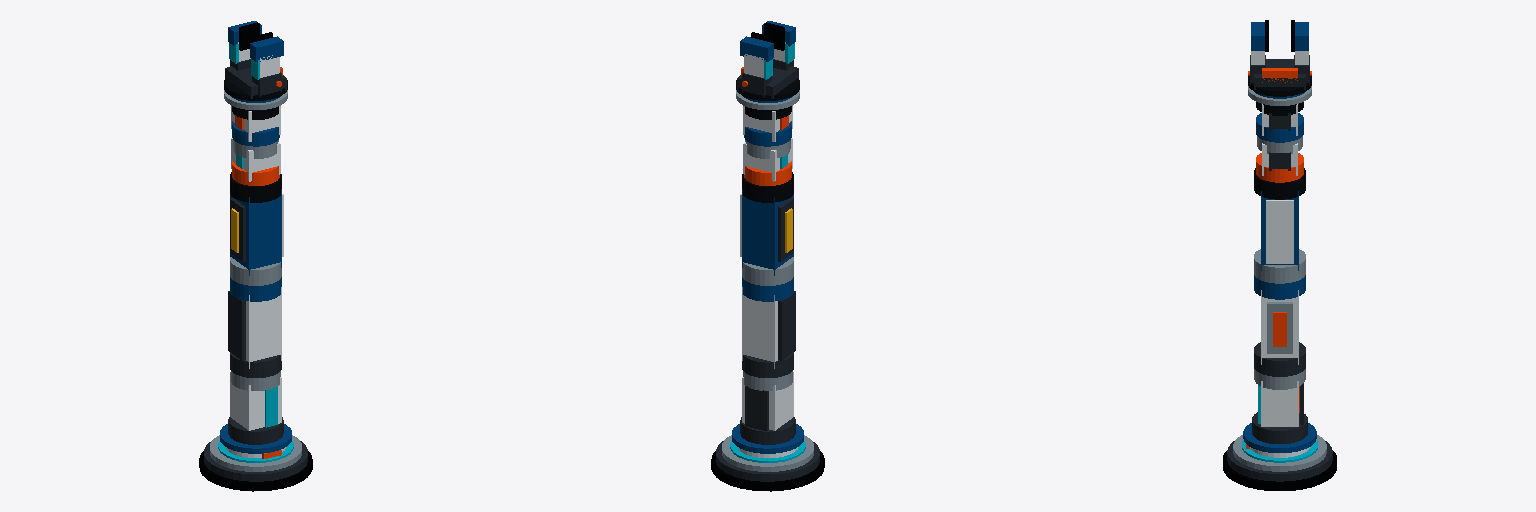
The robot description file, URDF, robot "marm":
<?xml version="1.0" ?>
<!-- =================================================================================== -->
<!-- |    This document was autogenerated by xacro from src/marm_description/urdf/marm_course_variant.xacro | -->
<!-- |    EDITING THIS FILE BY HAND IS NOT RECOMMENDED                                 | -->
<!-- =================================================================================== -->
<robot name="marm">
  <!-- Industrial palette inspired by UR, Franka, OpenMANIPULATOR and KUKA. -->
  <material name="Graphite">
    <color rgba="0.055 0.070 0.085 1"/>
  </material>
  <material name="Gunmetal">
    <color rgba="0.16 0.19 0.22 1"/>
  </material>
  <material name="PearlWhite">
    <color rgba="0.88 0.91 0.93 1"/>
  </material>
  <material name="Aluminium">
    <color rgba="0.52 0.58 0.62 1"/>
  </material>
  <material name="OceanBlue">
    <color rgba="0.02 0.30 0.52 1"/>
  </material>
  <material name="ElectricCyan">
    <color rgba="0.00 0.72 0.82 1"/>
  </material>
  <material name="SafetyOrange">
    <color rgba="1.00 0.30 0.035 1"/>
  </material>
  <material name="SignalYellow">
    <color rgba="1.00 0.73 0.06 1"/>
  </material>
  <material name="RubberBlack">
    <color rgba="0.018 0.022 0.026 1"/>
  </material>
  <!-- /////////////////////////////////////   ARM BASE    ////////////////////////////////////////////// -->
  <link name="base_link">
    <visual>
      <origin rpy="0 0 0" xyz="0 0 -0.006"/>
      <geometry>
        <cylinder length="0.012" radius="0.078"/>
      </geometry>
      <material name="RubberBlack"/>
    </visual>
    <visual>
      <origin rpy="0 0 0" xyz="0 0 0.004"/>
      <geometry>
        <cylinder length="0.014" radius="0.072"/>
      </geometry>
      <material name="Gunmetal"/>
    </visual>
    <visual>
      <origin rpy="0 0 0" xyz="0 0 0.014"/>
      <geometry>
        <cylinder length="0.01" radius="0.064"/>
      </geometry>
      <material name="Aluminium"/>
    </visual>
    <visual>
      <origin rpy="0 0 0" xyz="0 0 0.020"/>
      <geometry>
        <cylinder length="0.004" radius="0.052"/>
      </geometry>
      <material name="ElectricCyan"/>
    </visual>
  </link>
  <joint name="base_joint" type="fixed">
    <origin rpy="0 0 0" xyz="0 0 0.02"/>
    <parent link="base_link"/>
    <child link="link0"/>
  </joint>
  <!-- /////////////////////////////////////    LINK0    ////////////////////////////////////////////// -->
  <link name="link0">
    <visual>
      <origin rpy="0 0 0" xyz="0 0 0"/>
      <geometry>
        <cylinder length="0.032" radius="0.043"/>
      </geometry>
      <material name="PearlWhite"/>
    </visual>
    <visual>
      <origin rpy="0 0 0" xyz="0 0 -0.016"/>
      <geometry>
        <cylinder length="0.008" radius="0.05"/>
      </geometry>
      <material name="Graphite"/>
    </visual>
    <visual>
      <origin rpy="0 0 0" xyz="0 0 0.016"/>
      <geometry>
        <cylinder length="0.008" radius="0.05"/>
      </geometry>
      <material name="OceanBlue"/>
    </visual>
    <visual>
      <origin rpy="0 0 0" xyz="0 -0.043 0"/>
      <geometry>
        <box size="0.028 0.006 0.020"/>
      </geometry>
      <material name="SafetyOrange"/>
    </visual>
    <collision>
      <origin rpy="0 0 0" xyz="0 0 0"/>
      <geometry>
        <cylinder length="0.04" radius="0.05"/>
      </geometry>
    </collision>
    <cylinder_inertial_matrix h="0.04" m="1" r="0.05"/>
  </link>
  <joint name="joint1" type="revolute">
    <parent link="link0"/>
    <child link="link1"/>
    <origin rpy="0 1.570795 0" xyz="0 0 0.02"/>
    <axis xyz="-1 0 0"/>
    <limit effort="300" lower="-3.14159" upper="3.14159" velocity="1"/>
  </joint>
  <!-- /////////////////////////////////////   LINK1  ////////////////////////////////////////////// -->
  <link name="link1">
    <visual>
      <origin rpy="0 0 0" xyz="-0.05 0 0"/>
      <geometry>
        <box size="0.078 0.052 0.052"/>
      </geometry>
      <material name="PearlWhite"/>
    </visual>
    <visual>
      <origin rpy="0 1.570795 0" xyz="-0.010 0 0"/>
      <geometry>
        <cylinder length="0.02" radius="0.038"/>
      </geometry>
      <material name="Gunmetal"/>
    </visual>
    <visual>
      <origin rpy="0 1.570795 0" xyz="-0.090 0 0"/>
      <geometry>
        <cylinder length="0.02" radius="0.035"/>
      </geometry>
      <material name="Aluminium"/>
    </visual>
    <visual>
      <origin rpy="0 0 0" xyz="-0.05 -0.026 0.008"/>
      <geometry>
        <box size="0.058 0.008 0.018"/>
      </geometry>
      <material name="ElectricCyan"/>
    </visual>
    <visual>
      <origin rpy="0 0 0" xyz="-0.05 0.026 -0.008"/>
      <geometry>
        <box size="0.042 0.006 0.012"/>
      </geometry>
      <material name="SafetyOrange"/>
    </visual>
    <visual>
      <origin rpy="0 0 0" xyz="-0.05 0.030 0"/>
      <geometry>
        <box size="0.062 0.006 0.034"/>
      </geometry>
      <material name="Gunmetal"/>
    </visual>
    <collision>
      <origin rpy="0 1.570795 0" xyz="-0.05 0 0"/>
      <geometry>
        <cylinder length="0.1" radius="0.03"/>
      </geometry>
    </collision>
    <cylinder_inertial_matrix h="0.1" m="1" r="0.03"/>
  </link>
  <joint name="joint2" type="revolute">
    <parent link="link1"/>
    <child link="link2"/>
    <origin rpy="-1.570795 0 1.570795" xyz="-0.1 0 0.0"/>
    <axis xyz="1 0 0"/>
    <limit effort="300" lower="-3.14159" upper="3.14159" velocity="1"/>
  </joint>
  <!-- ///////////////////////////////////////   LINK2  ////////////////////////////////////////////// -->
  <link name="link2">
    <visual>
      <origin rpy="0 0 0" xyz="0 0 0.07"/>
      <geometry>
        <box size="0.052 0.052 0.112"/>
      </geometry>
      <material name="PearlWhite"/>
    </visual>
    <visual>
      <origin rpy="0 0 0" xyz="0 0 0.012"/>
      <geometry>
        <cylinder length="0.024" radius="0.036"/>
      </geometry>
      <material name="Gunmetal"/>
    </visual>
    <visual>
      <origin rpy="0 0 0" xyz="0 0 0.128"/>
      <geometry>
        <cylinder length="0.024" radius="0.036"/>
      </geometry>
      <material name="OceanBlue"/>
    </visual>
    <visual>
      <origin rpy="0 0 0" xyz="0 -0.027 0.07"/>
      <geometry>
        <box size="0.036 0.009 0.076"/>
      </geometry>
      <material name="Aluminium"/>
    </visual>
    <visual>
      <origin rpy="0 0 0" xyz="0 -0.033 0.07"/>
      <geometry>
        <box size="0.020 0.004 0.052"/>
      </geometry>
      <material name="SafetyOrange"/>
    </visual>
    <visual>
      <origin rpy="0 0 0" xyz="0 0.030 0.07"/>
      <geometry>
        <box size="0.038 0.006 0.090"/>
      </geometry>
      <material name="Gunmetal"/>
    </visual>
    <collision>
      <origin rpy="0 0 0" xyz="0 0 0.07"/>
      <geometry>
        <cylinder length="0.14" radius="0.03"/>
      </geometry>
    </collision>
    <cylinder_inertial_matrix h="0.14" m="0.8" r="0.03"/>
  </link>
  <joint name="joint3" type="revolute">
    <parent link="link2"/>
    <child link="link3"/>
    <origin rpy="0 3.14159 0" xyz="0 0 0.14"/>
    <axis xyz="-1 0 0"/>
    <limit effort="300" lower="-3.14159" upper="3.14159" velocity="1"/>
  </joint>
  <!-- /////////////////////////////////   LINK3  ///////////////////////////////////////////////////// -->
  <link name="link3">
    <visual>
      <origin rpy="0 0 0" xyz="0 0 -0.075"/>
      <geometry>
        <box size="0.052 0.052 0.120"/>
      </geometry>
      <material name="OceanBlue"/>
    </visual>
    <visual>
      <origin rpy="0 0 0" xyz="0 0 -0.012"/>
      <geometry>
        <cylinder length="0.024" radius="0.036"/>
      </geometry>
      <material name="Aluminium"/>
    </visual>
    <visual>
      <origin rpy="0 0 0" xyz="0 0 -0.138"/>
      <geometry>
        <cylinder length="0.024" radius="0.036"/>
      </geometry>
      <material name="Graphite"/>
    </visual>
    <visual>
      <origin rpy="0 0 0" xyz="0 0.027 -0.075"/>
      <geometry>
        <box size="0.036 0.009 0.082"/>
      </geometry>
      <material name="Gunmetal"/>
    </visual>
    <visual>
      <origin rpy="0 0 0" xyz="0 0.033 -0.075"/>
      <geometry>
        <box size="0.018 0.004 0.060"/>
      </geometry>
      <material name="SignalYellow"/>
    </visual>
    <visual>
      <origin rpy="0 0 0" xyz="0 -0.030 -0.075"/>
      <geometry>
        <box size="0.038 0.006 0.094"/>
      </geometry>
      <material name="PearlWhite"/>
    </visual>
    <collision>
      <origin rpy="0 0 0" xyz="0 0 -0.075"/>
      <geometry>
        <cylinder length="0.15" radius="0.03"/>
      </geometry>
    </collision>
    <cylinder_inertial_matrix h="0.15" m="0.8" r="0.03"/>
  </link>
  <joint name="joint4" type="revolute">
    <parent link="link3"/>
    <child link="link4"/>
    <origin rpy="0 1.570795 3.14159" xyz="0.0 0.0 -0.15"/>
    <axis xyz="-1 0 0"/>
    <limit effort="300" lower="-3.14159" upper="3.14159" velocity="1"/>
  </joint>
  <!-- ///////////////////////////////////   LINK4  //////////////////////////////////////////////// -->
  <link name="link4">
    <visual>
      <origin rpy="0 0 0" xyz="0.03 0 0"/>
      <geometry>
        <box size="0.046 0.050 0.050"/>
      </geometry>
      <material name="PearlWhite"/>
    </visual>
    <visual>
      <origin rpy="0 1.570795 0" xyz="0.010 0 0"/>
      <geometry>
        <cylinder length="0.02" radius="0.033"/>
      </geometry>
      <material name="SafetyOrange"/>
    </visual>
    <visual>
      <origin rpy="0 1.570795 0" xyz="0.050 0 0"/>
      <geometry>
        <cylinder length="0.02" radius="0.031"/>
      </geometry>
      <material name="Aluminium"/>
    </visual>
    <visual>
      <origin rpy="0 0 0" xyz="0.03 -0.024 0"/>
      <geometry>
        <box size="0.026 0.006 0.018"/>
      </geometry>
      <material name="ElectricCyan"/>
    </visual>
    <visual>
      <origin rpy="0 0 0" xyz="0.03 0.028 0"/>
      <geometry>
        <box size="0.026 0.006 0.030"/>
      </geometry>
      <material name="Gunmetal"/>
    </visual>
    <collision>
      <origin rpy="0 1.570795 0" xyz="0.03 0 0"/>
      <geometry>
        <cylinder length="0.06" radius="0.025"/>
      </geometry>
    </collision>
    <cylinder_inertial_matrix h="0.06" m="0.7" r="0.025"/>
  </link>
  <joint name="joint5" type="revolute">
    <parent link="link4"/>
    <child link="link5"/>
    <origin rpy="0 1.570795 0" xyz="0.06 0.0 0.0"/>
    <axis xyz="1 0 0"/>
    <limit effort="300" lower="-3.14159" upper="3.14159" velocity="1"/>
  </joint>
  <!-- //////////////////////////////////   LINK5  ///////////////////////////////////////////////// -->
  <link name="link5">
    <visual>
      <origin rpy="0 0 0" xyz="0 0 0.03"/>
      <geometry>
        <box size="0.050 0.050 0.046"/>
      </geometry>
      <material name="PearlWhite"/>
    </visual>
    <visual>
      <origin rpy="0 0 0" xyz="0 0 0.010"/>
      <geometry>
        <cylinder length="0.02" radius="0.033"/>
      </geometry>
      <material name="OceanBlue"/>
    </visual>
    <visual>
      <origin rpy="0 0 0" xyz="0 0 0.050"/>
      <geometry>
        <cylinder length="0.02" radius="0.033"/>
      </geometry>
      <material name="Graphite"/>
    </visual>
    <visual>
      <origin rpy="0 0 0" xyz="0 -0.025 0.03"/>
      <geometry>
        <box size="0.018 0.006 0.026"/>
      </geometry>
      <material name="SafetyOrange"/>
    </visual>
    <visual>
      <origin rpy="0 0 0" xyz="0 0.028 0.03"/>
      <geometry>
        <box size="0.030 0.006 0.026"/>
      </geometry>
      <material name="Gunmetal"/>
    </visual>
    <collision>
      <origin rpy="0 0 0" xyz="0 0 0.03 "/>
      <geometry>
        <cylinder length="0.06" radius="0.03"/>
      </geometry>
    </collision>
    <cylinder_inertial_matrix h="0.06" m="0.7" r="0.03"/>
  </link>
  <joint name="joint6" type="revolute">
    <parent link="link5"/>
    <child link="link6"/>
    <origin rpy="4.712384999999999 -1.570795 0" xyz="0 0 0.06"/>
    <axis xyz="1 0 0"/>
    <limit effort="300" lower="-6.28318" upper="6.28318" velocity="1"/>
  </joint>
  <!-- ////////////////////////////////   LINK6  ///////////////////////////////////////////////// -->
  <link name="link6">
    <visual>
      <origin rpy="0 1.570795 0" xyz="0.01 0 0"/>
      <geometry>
        <cylinder length="0.02" radius="0.038"/>
      </geometry>
      <material name="OceanBlue"/>
    </visual>
    <visual>
      <origin rpy="0 1.570795 0" xyz="0.004 0 0"/>
      <geometry>
        <cylinder length="0.008" radius="0.044"/>
      </geometry>
      <material name="Aluminium"/>
    </visual>
    <visual>
      <origin rpy="0 1.570795 0" xyz="0.018 0 0"/>
      <geometry>
        <cylinder length="0.008" radius="0.044"/>
      </geometry>
      <material name="Graphite"/>
    </visual>
    <visual>
      <origin rpy="0 0 0" xyz="0.027 0 0"/>
      <geometry>
        <box size="0.018 0.072 0.058"/>
      </geometry>
      <material name="Gunmetal"/>
    </visual>
    <visual>
      <origin rpy="0 0 0" xyz="0.037 0 0.025"/>
      <geometry>
        <box size="0.018 0.050 0.008"/>
      </geometry>
      <material name="SafetyOrange"/>
    </visual>
    <collision>
      <origin rpy="0 1.570795 0" xyz="0.01 0 0"/>
      <geometry>
        <cylinder length="0.02" radius="0.04"/>
      </geometry>
    </collision>
    <cylinder_inertial_matrix h="0.02" m="0.6" r="0.04"/>
  </link>
  <joint name="finger_joint1" type="prismatic">
    <parent link="link6"/>
    <child link="gripper_finger_link1"/>
    <origin rpy="0 0 0" xyz="0.02 -0.03 0"/>
    <axis xyz="0 1 0"/>
    <limit effort="100" lower="0" upper="0.06" velocity="0.02"/>
  </joint>
  <!-- //////////////////////////////////////   gripper   ////////////////////////////////////////////// -->
  <!-- LEFT GRIPPER AFT LINK -->
  <link name="gripper_finger_link1">
    <visual>
      <origin rpy="0 0 0" xyz="0.014 0 0"/>
      <geometry>
        <box size="0.028 0.022 0.036"/>
      </geometry>
      <material name="Gunmetal"/>
    </visual>
    <visual>
      <origin rpy="0 0 0" xyz="0.041 0 0"/>
      <geometry>
        <box size="0.034 0.018 0.032"/>
      </geometry>
      <material name="PearlWhite"/>
    </visual>
    <visual>
      <origin rpy="0 0 0" xyz="0.064 0 0"/>
      <geometry>
        <box size="0.022 0.018 0.044"/>
      </geometry>
      <material name="OceanBlue"/>
    </visual>
    <visual>
      <origin rpy="0 0 0" xyz="0.064 0.012 0"/>
      <geometry>
        <box size="0.034 0.006 0.030"/>
      </geometry>
      <material name="RubberBlack"/>
    </visual>
    <visual>
      <origin rpy="0 0 0" xyz="0.041 0 -0.018"/>
      <geometry>
        <box size="0.030 0.020 0.004"/>
      </geometry>
      <material name="ElectricCyan"/>
    </visual>
    <visual>
      <origin rpy="1.570795 0 0" xyz="0.014 -0.012 0.012"/>
      <geometry>
        <cylinder length="0.004" radius="0.004"/>
      </geometry>
      <material name="SafetyOrange"/>
    </visual>
    <collision>
      <origin rpy="0 1.570795 0" xyz="0.03 0 0"/>
      <geometry>
        <box size="0.03 0.01 0.06"/>
      </geometry>
    </collision>
    <box_inertial_matrix d="0.03" h="0.06" m="0.5" w="0.01"/>
  </link>
  <joint name="finger_joint2" type="fixed">
    <parent link="link6"/>
    <child link="gripper_finger_link2"/>
    <origin rpy="0 0 0" xyz="0.02 0.03 0"/>
  </joint>
  <!-- RIGHT GRIPPER AFT LINK -->
  <link name="gripper_finger_link2">
    <visual>
      <origin rpy="0 0 0" xyz="0.014 0 0"/>
      <geometry>
        <box size="0.028 0.022 0.036"/>
      </geometry>
      <material name="Gunmetal"/>
    </visual>
    <visual>
      <origin rpy="0 0 0" xyz="0.041 0 0"/>
      <geometry>
        <box size="0.034 0.018 0.032"/>
      </geometry>
      <material name="PearlWhite"/>
    </visual>
    <visual>
      <origin rpy="0 0 0" xyz="0.064 0 0"/>
      <geometry>
        <box size="0.022 0.018 0.044"/>
      </geometry>
      <material name="OceanBlue"/>
    </visual>
    <visual>
      <origin rpy="0 0 0" xyz="0.064 -0.012 0"/>
      <geometry>
        <box size="0.034 0.006 0.030"/>
      </geometry>
      <material name="RubberBlack"/>
    </visual>
    <visual>
      <origin rpy="0 0 0" xyz="0.041 0 -0.018"/>
      <geometry>
        <box size="0.030 0.020 0.004"/>
      </geometry>
      <material name="ElectricCyan"/>
    </visual>
    <visual>
      <origin rpy="1.570795 0 0" xyz="0.014 0.012 0.012"/>
      <geometry>
        <cylinder length="0.004" radius="0.004"/>
      </geometry>
      <material name="SafetyOrange"/>
    </visual>
    <collision>
      <origin rpy="0 1.570795 0" xyz="0.03 0 0"/>
      <geometry>
        <box size="0.03 0.01 0.06"/>
      </geometry>
    </collision>
    <box_inertial_matrix d="0.03" h="0.06" m="0.5" w="0.01"/>
  </link>
  <!-- Grasping frame -->
  <link name="grasping_frame"/>
  <joint name="grasping_frame_joint" type="fixed">
    <parent link="link6"/>
    <child link="grasping_frame"/>
    <origin rpy="0 0 0" xyz="0.06 0 0"/>
  </joint>
</robot>

--- Facts derived from the render (not from the file) ---
Views: 3 orthographic renders of the robot side by side, from view 1: azimuth 30°, elevation 25°; view 2: azimuth 150°, elevation 25°; view 3: azimuth 270°, elevation 25°.
Robot: marm — 11 links, 10 joints (6 revolute, 1 prismatic, 3 fixed); root link base_link; default pose: all joints at 0.
Links seen in each view (by area): view 1: link3, link2, base_link, link1, link4, link5, link6, gripper_finger_link2, gripper_finger_link1, link0; view 2: link3, link2, base_link, link1, link4, link5, link6, gripper_finger_link1, gripper_finger_link2, link0; view 3: link3, base_link, link2, link1, link6, link4, link5, link0, gripper_finger_link1, gripper_finger_link2.
Boxes of the visible links, x1,y1,x2,y2 form: link3: (230,172,283,285); link2: (228,277,281,377); base_link: (199,435,312,491); link1: (228,371,283,444); link4: (231,138,280,185); link5: (231,106,280,146); link6: (224,66,287,109); gripper_finger_link2: (250,32,283,96); gripper_finger_link1: (228,21,261,70); link0: (220,424,291,458); link3: (740,172,793,285); link2: (742,277,795,377); base_link: (711,435,824,491); link1: (740,371,795,444); link4: (743,138,792,185); link5: (743,106,792,146); link6: (736,66,799,109); gripper_finger_link1: (740,32,773,96); gripper_finger_link2: (762,21,795,70); link0: (732,424,803,457); link3: (1254,168,1305,283); base_link: (1223,435,1336,490); link2: (1254,275,1305,376); link1: (1252,369,1307,443); link6: (1248,59,1311,105); link4: (1256,136,1303,182); link5: (1256,102,1303,142); link0: (1243,423,1316,457); gripper_finger_link1: (1291,20,1311,84); gripper_finger_link2: (1248,20,1268,84).
Size in the robot's own frame: 0.156 by 0.156 by 0.663 metres.
Geometry: primitives only (box / cylinder / sphere), no mesh files.
